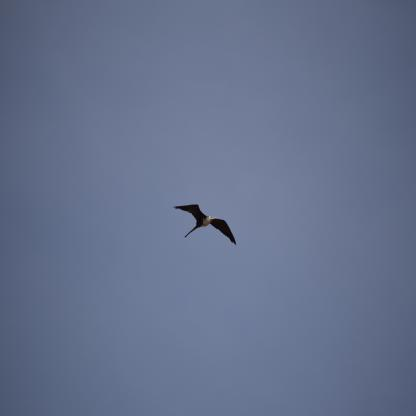bird: (172, 204, 236, 246)
